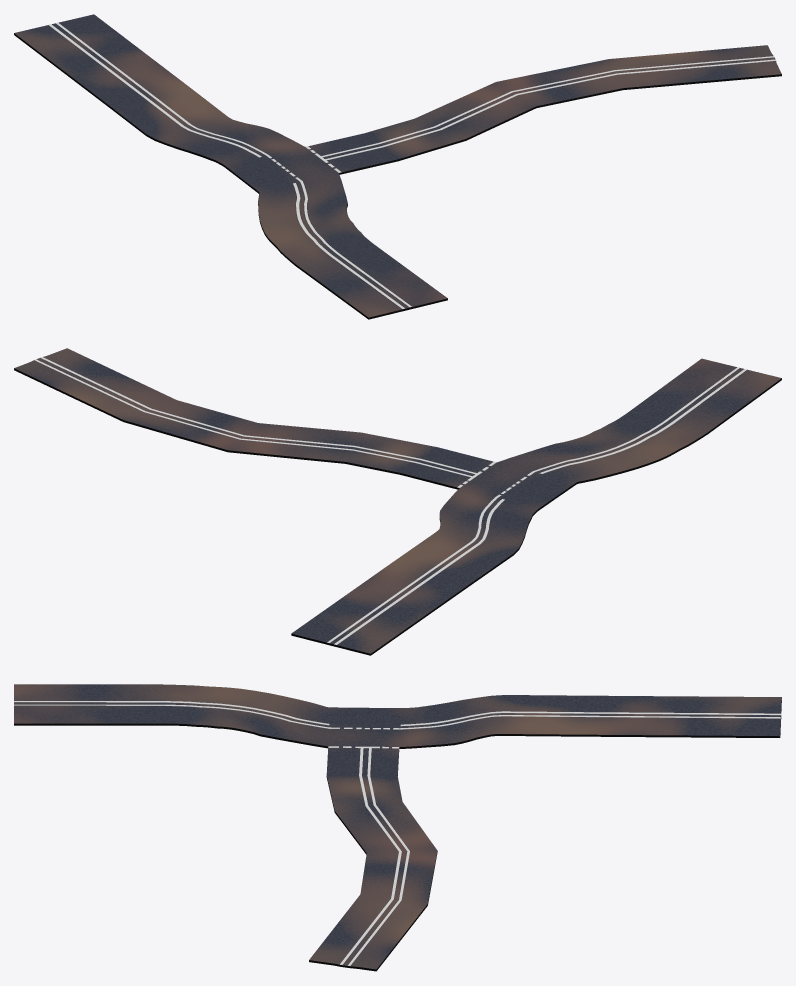
Rendered from Road1.fbx.
3 renders of one model, top to bottom at view 1: azimuth 30°, elevation 25°; view 2: azimuth 150°, elevation 25°; view 3: azimuth 270°, elevation 25°, orthographic.
Visible parts, largest first — view 1: Ground, Lines; view 2: Ground, Lines; view 3: Ground, Lines.
Boxes of the visible parts, x1,y1,x2,y2 form: Ground: (14,14,781,319); Lines: (48,22,775,308); Ground: (14,348,781,655); Lines: (34,357,747,644); Ground: (14,684,781,971); Lines: (14,701,781,965).
Size of the model in its own units: 11984 by 42.91 by 13644.
